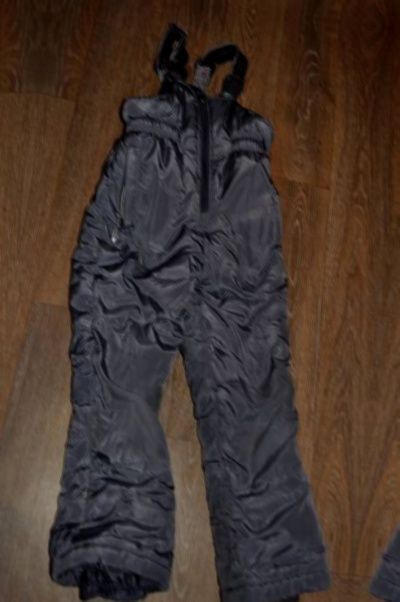Pants: (13, 51, 377, 602), (380, 96, 400, 602), (0, 6, 9, 581)
